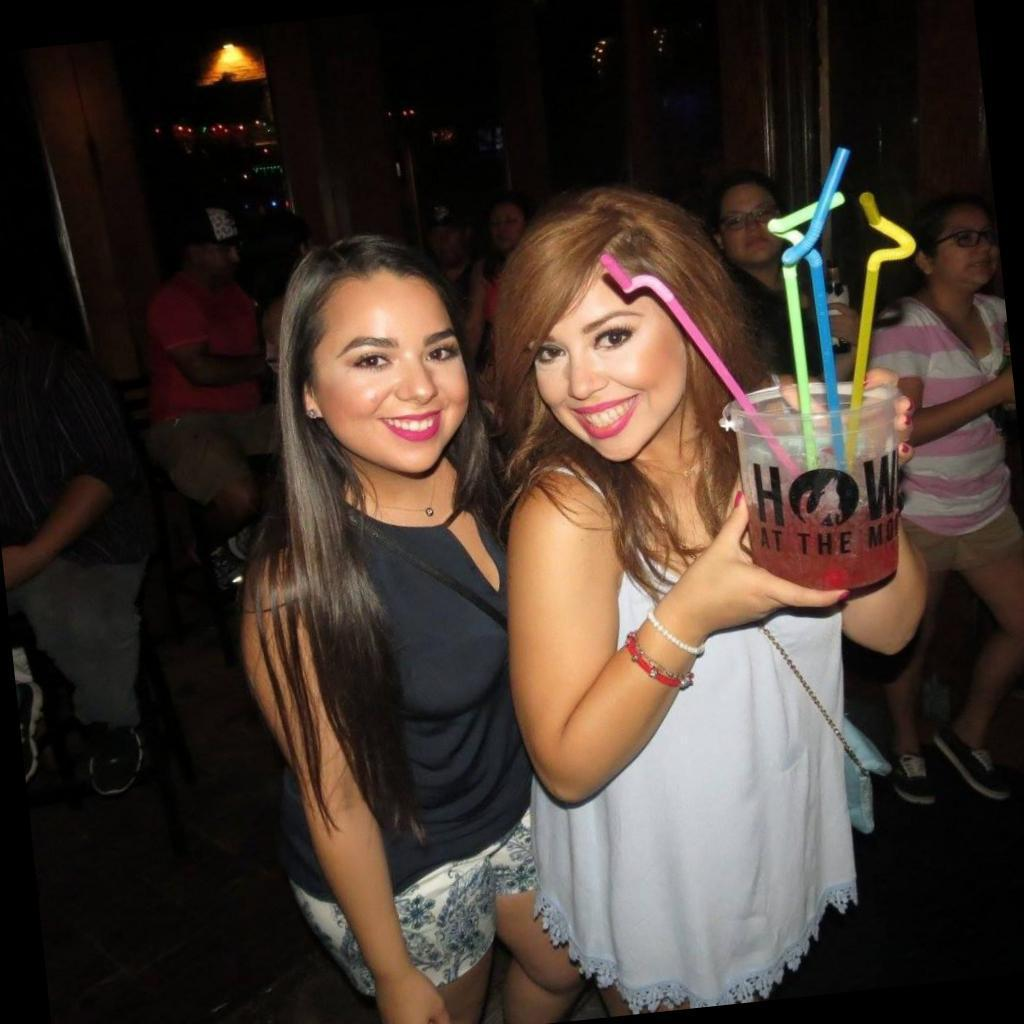Drunk: (327, 276, 463, 473), (531, 294, 678, 459)
